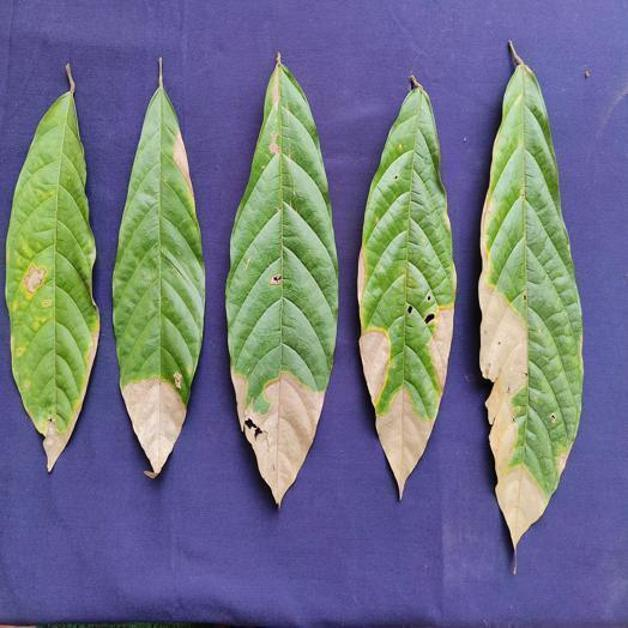Potassium: (480, 42, 582, 552), (226, 56, 337, 505), (359, 76, 455, 498), (5, 64, 99, 471), (113, 58, 204, 477)
